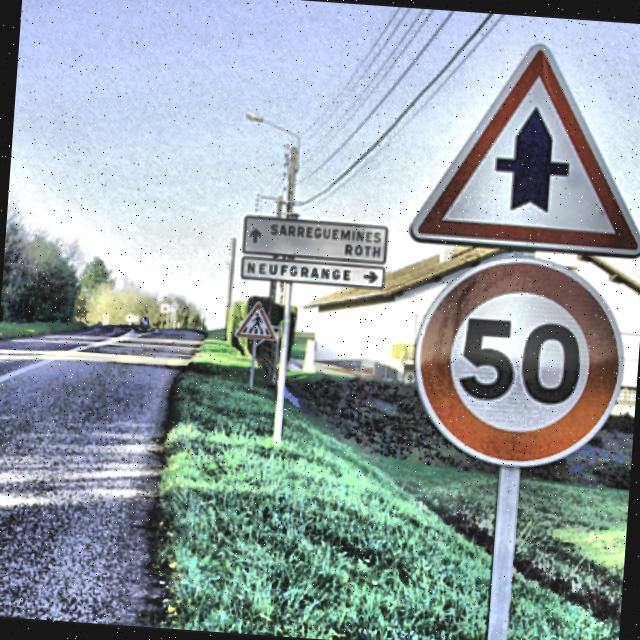speed_50: (406, 252, 629, 474)
